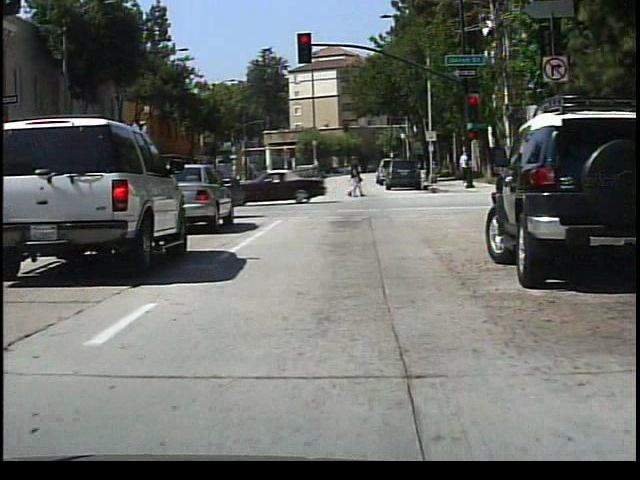person: (344, 159, 369, 200), (455, 149, 472, 189)
